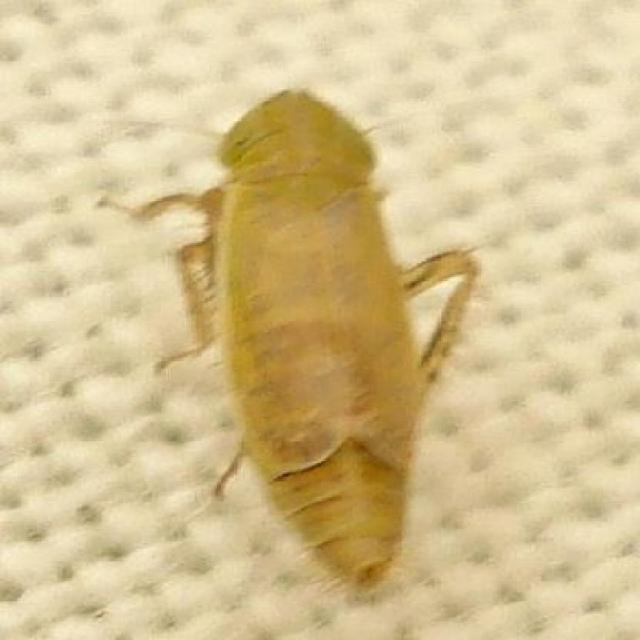green-leafhopper: (196, 89, 458, 586)
